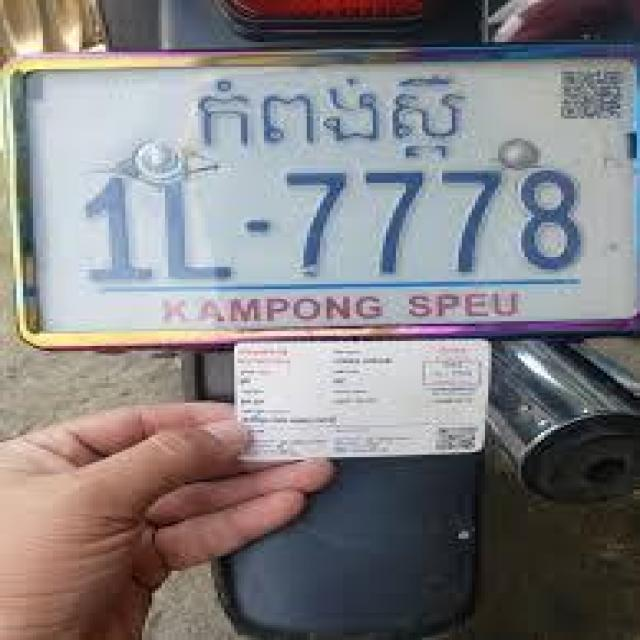Kampong_Speu: (185, 74, 470, 164)
